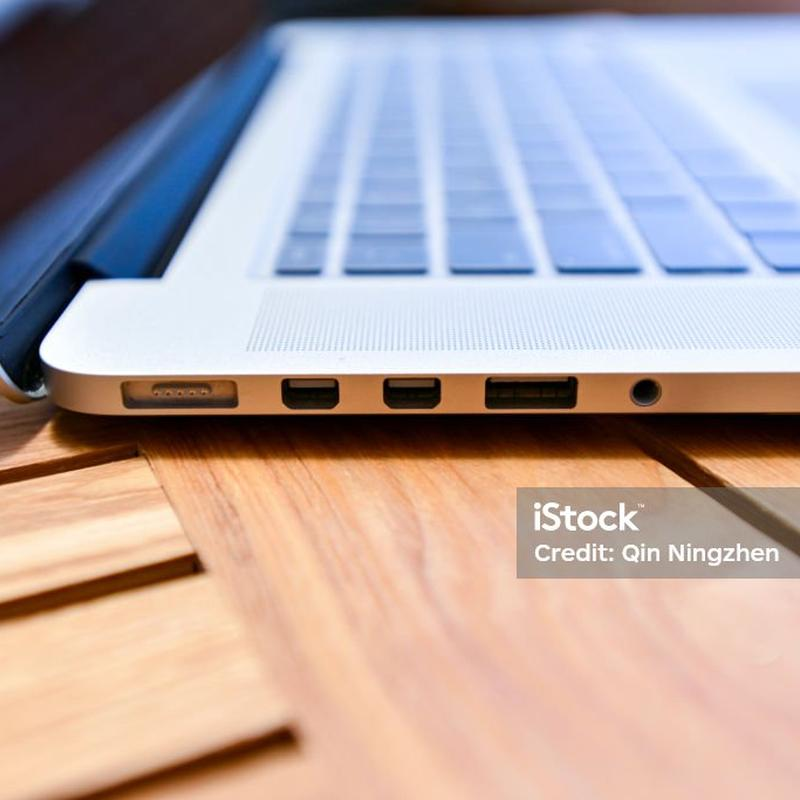AUDIO: (612, 355, 687, 420)
DISPLAYPORT: (475, 365, 591, 425)
USB: (260, 360, 351, 422), (370, 367, 456, 422)
